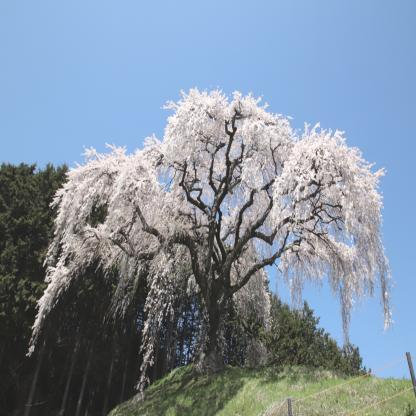ShidareZakura: (27, 84, 397, 396)
